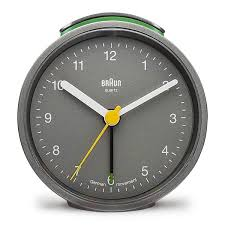alarm_clock: (17, 11, 210, 212), (17, 25, 210, 212)
